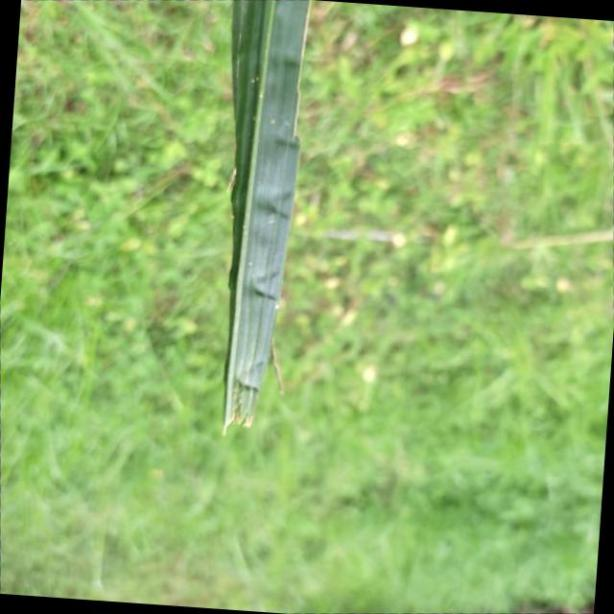Boron: (216, 0, 318, 445)
